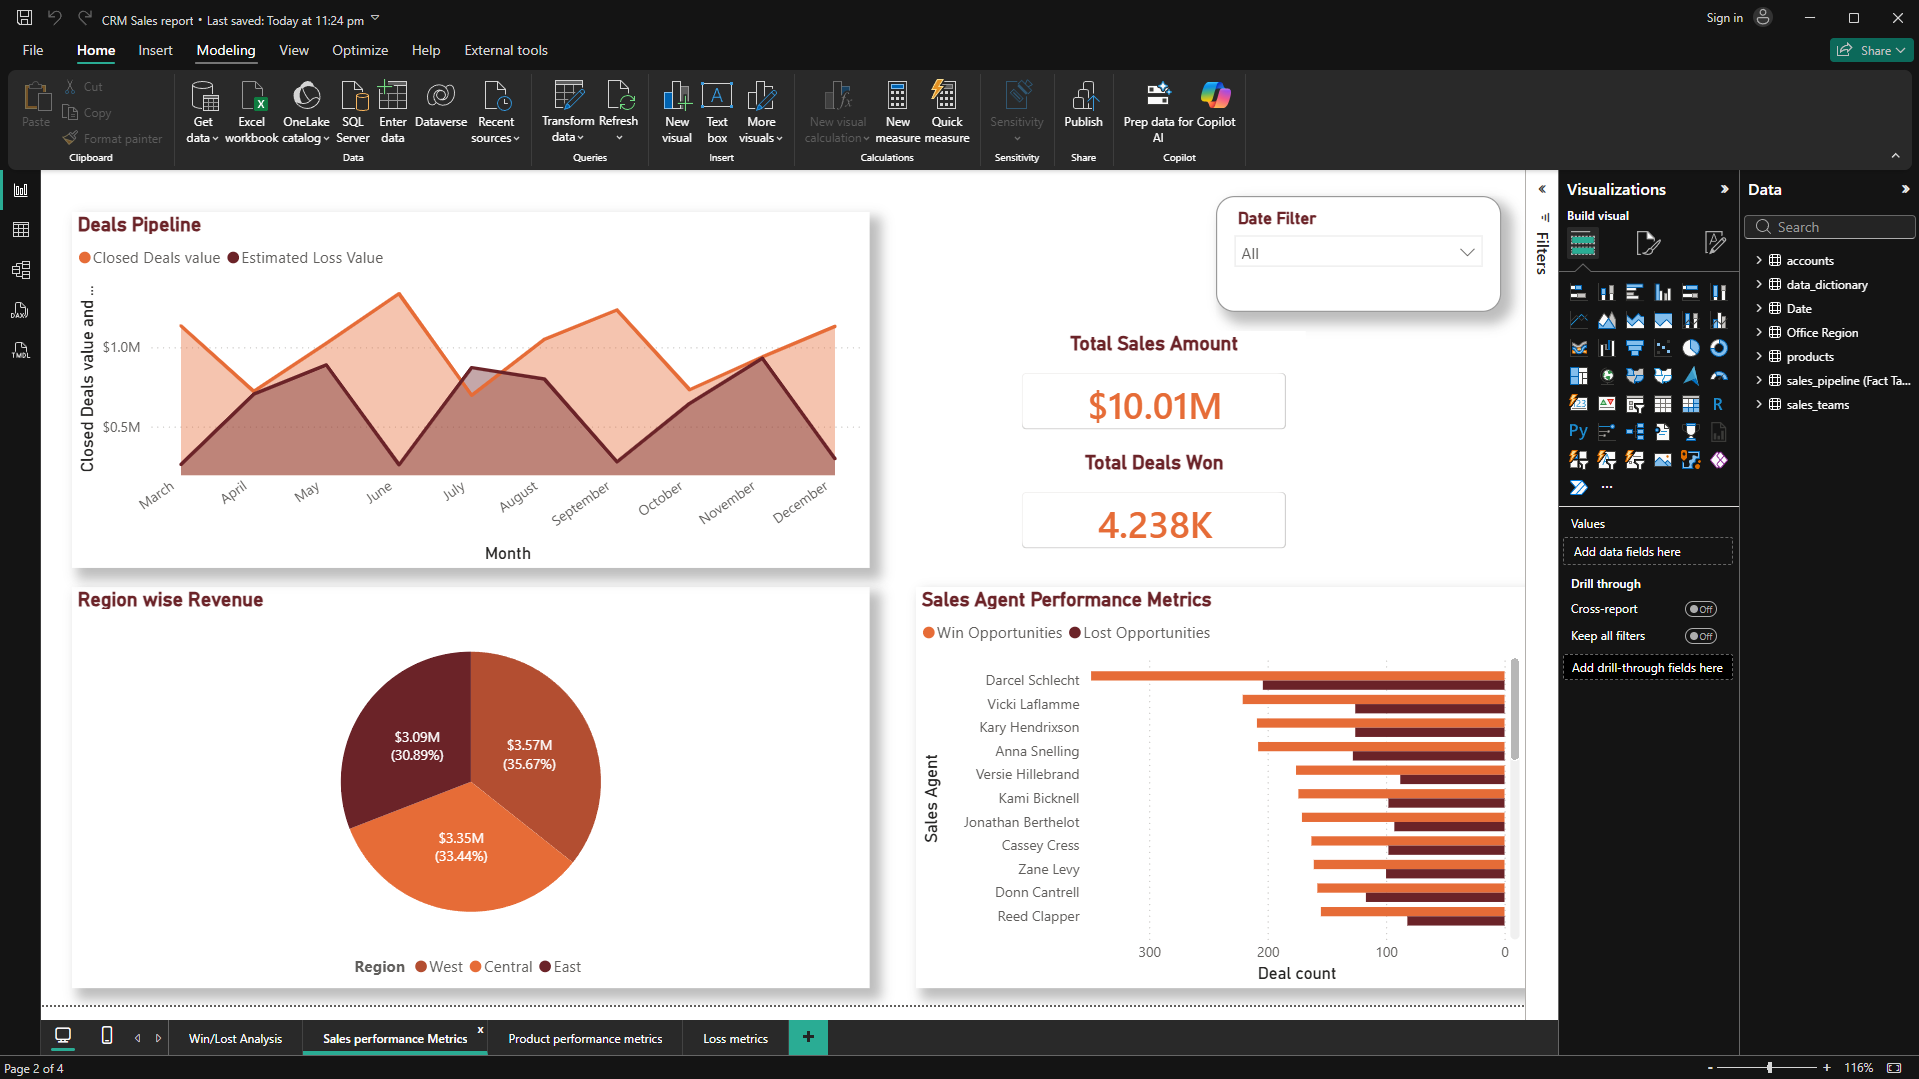

The page's visual inventory and layout, read from the dashboard file:
{"tool":"powerbi","page":{"name":"Sales performance Metrics","canvas":[1280,720],"ordinal":1},"visuals":[{"type":"pieChart","title":"Region wise Revenue","fields":{"Category":["sales_teams.regional_office"],"Y":["sales_pipeline (Fact Table).Closed Deals value"]},"box":[26.5,359.5,688.1,346.3],"z":2000},{"type":"slicer","fields":{"Values":["Date.Date.Variation.Date Hierarchy.Quarter","Date.Date.Variation.Date Hierarchy.Month"]},"box":[1013.5,22.4,245.8,100.1],"z":3000},{"type":"clusteredBarChart","title":"Sales Agent Performance Metrics","fields":{"Category":["sales_teams.sales_agent"],"Y":["sales_pipeline (Fact Table).Win Opportunities","sales_pipeline (Fact Table).Lost Opportunities"]},"box":[754.8,359.9,525.6,346.3],"z":4000},{"type":"areaChart","title":"Deals Pipeline","fields":{"Category":["Date.Year","Date.Quarter","Date.Month"],"Y":["sales_pipeline (Fact Table).Closed Deals value","sales_pipeline (Fact Table).Estimated Loss Value"]},"box":[26.5,36.2,688.1,307.4],"z":5000},{"type":"cardVisual","title":"Total Sales Amount","fields":{"Data":["sales_pipeline (Fact Table).Closed Deals value"]},"box":[828.6,138.7,262.4,102.5],"z":7000},{"type":"cardVisual","title":"Total Deals Won","fields":{"Data":["sales_pipeline (Fact Table).Win Oppertunities"]},"box":[828.6,241.2,262.6,102.1],"z":8000}]}

Visuals, with their boxes on the page's 1280x720 design canvas (x1, y1, x2, y2). These are canvas units, not pixel positions in the 1919x1079 screenshot, which may show the page scaled, cropped or inside an application window:
"Region wise Revenue" pieChart: BBox(26, 360, 715, 706)
slicer - Date.Date.Variation.Date Hierarchy.Quarter x Date.Date.Variation.Date Hierarchy.Month: BBox(1014, 22, 1259, 122)
"Sales Agent Performance Metrics" clusteredBarChart: BBox(755, 360, 1280, 706)
"Deals Pipeline" areaChart: BBox(26, 36, 715, 344)
"Total Sales Amount" cardVisual: BBox(829, 139, 1091, 241)
"Total Deals Won" cardVisual: BBox(829, 241, 1091, 343)
